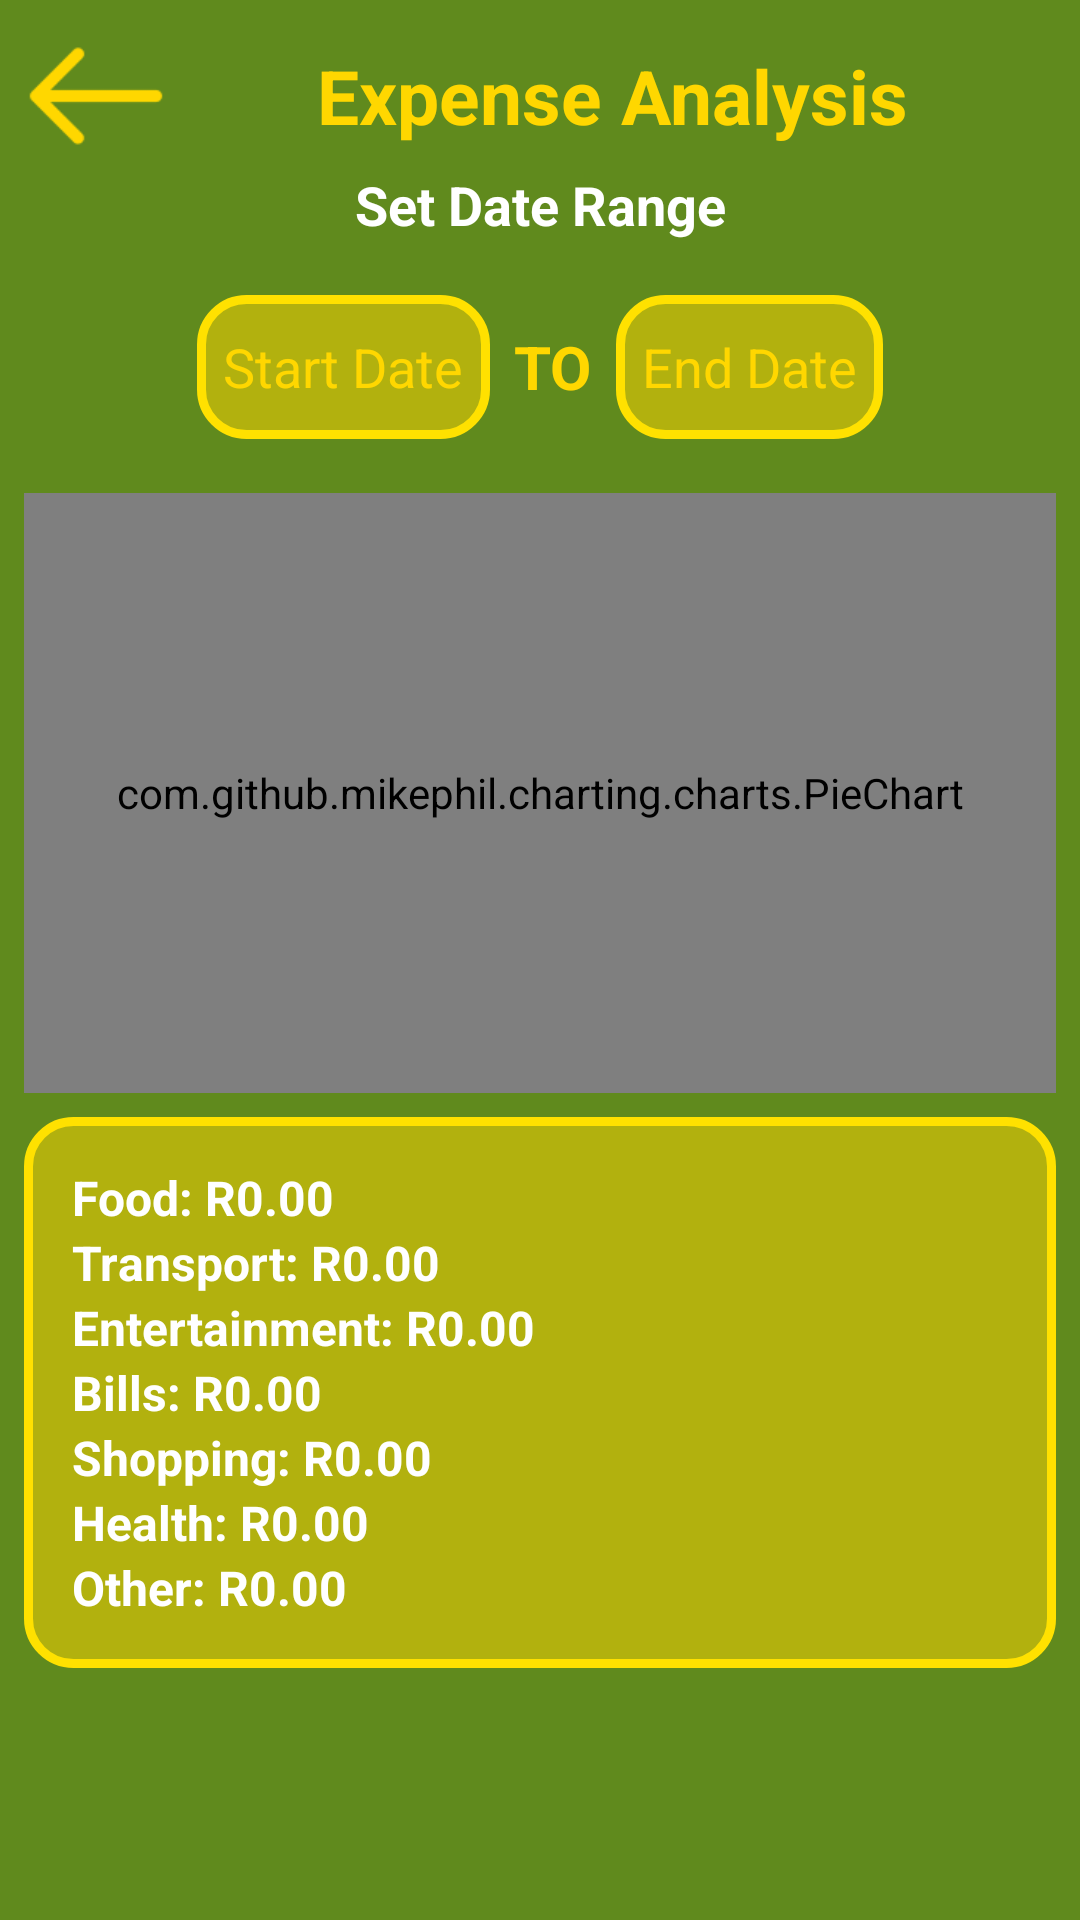

Icons on this 1080px x 1920px Android screen, each with its box as bbox(x1, y1, x2, y2):
back: bbox(29, 47, 163, 145)
